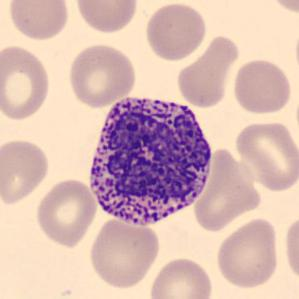Basophil: (82, 87, 219, 233)
RBC: (193, 146, 262, 228), (88, 216, 162, 291), (214, 215, 282, 291), (66, 41, 138, 109), (232, 118, 298, 192), (33, 176, 99, 249), (176, 35, 242, 108), (0, 42, 53, 122), (142, 1, 208, 63), (230, 56, 294, 116), (0, 136, 52, 206), (147, 254, 215, 299), (6, 0, 72, 42), (72, 0, 140, 35), (282, 212, 299, 286), (266, 0, 299, 15), (293, 23, 299, 83)
